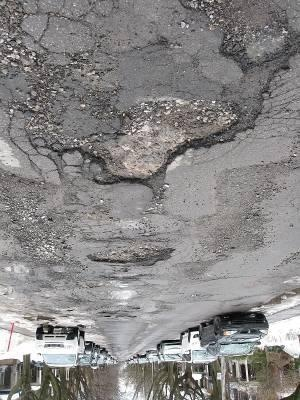pothole: (75, 98, 246, 191), (216, 19, 293, 71), (85, 240, 173, 265)
